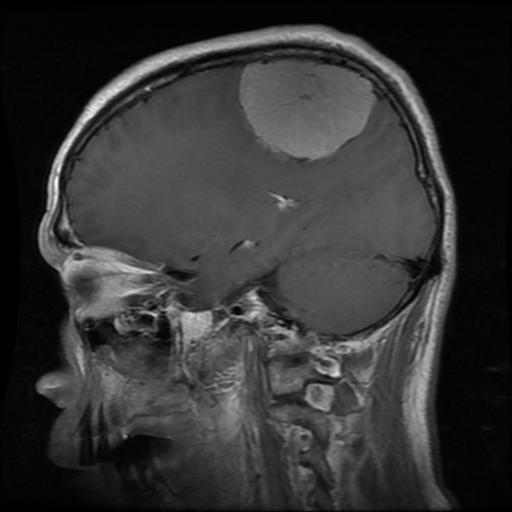Menigiomia_tumour: (240, 57, 376, 161)
